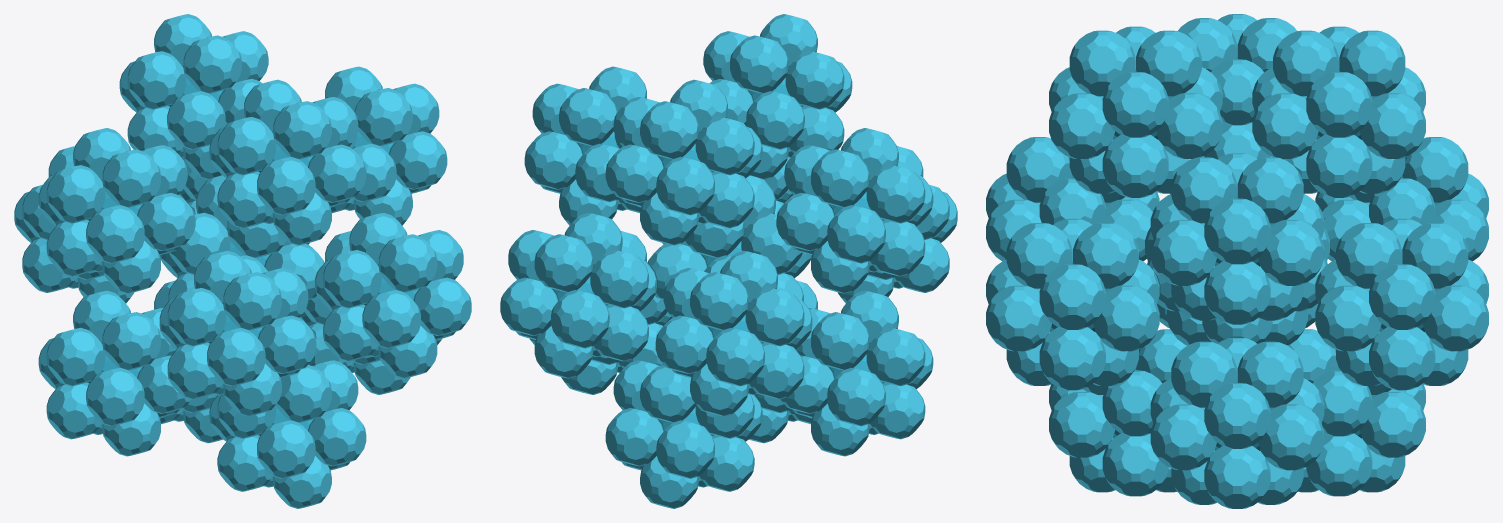
File: fractaltruncatedicosidodecahedron2.glb
3 views of the same model, side by side, from view 1: azimuth 30°, elevation 25°; view 2: azimuth 150°, elevation 25°; view 3: azimuth 270°, elevation 25° (orthographic). The views are drawn at different scales.
Bounding box in the file's own units: 9.65 × 9.65 × 9.65.
